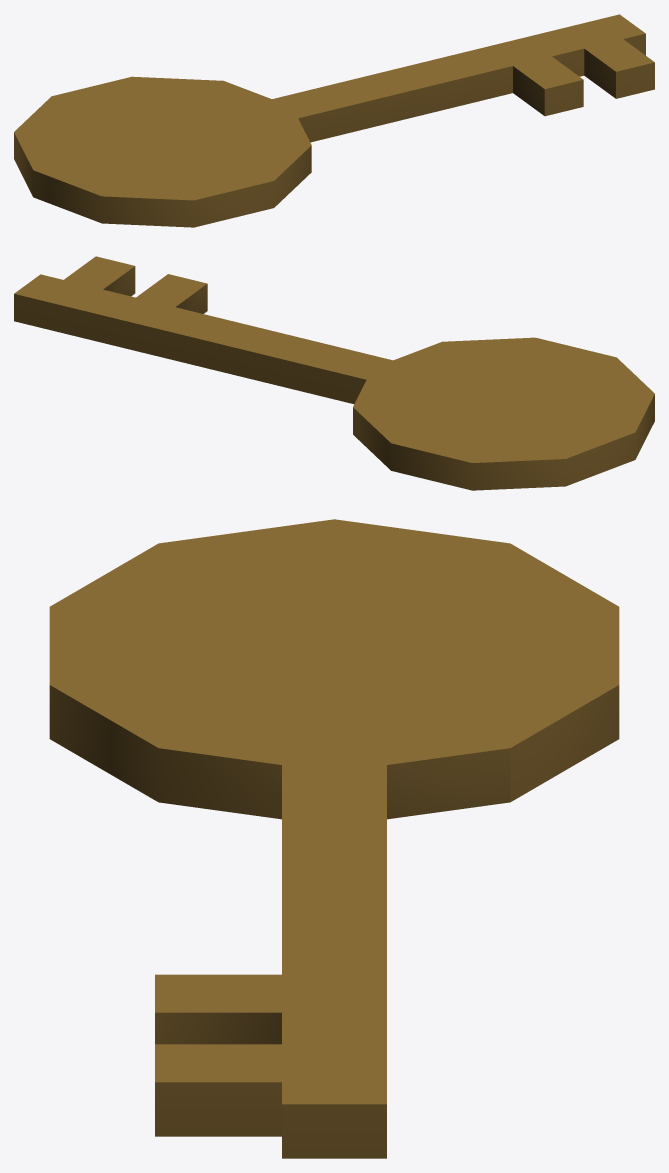
Rendered from llave_archivo.glb.
The picture shows the model from 3 angles, top to bottom: view 1: azimuth 30°, elevation 25°; view 2: azimuth 150°, elevation 25°; view 3: azimuth 270°, elevation 25°; orthographic projection. The views are drawn at different scales.
Visible parts, largest first — view 1: llave_archivo; view 2: llave_archivo; view 3: llave_archivo.
Boxes of the visible parts, x1=… form: llave_archivo: x1=14, y1=14, x2=654, y2=227; llave_archivo: x1=14, y1=256, x2=654, y2=490; llave_archivo: x1=49, y1=519, x2=619, y2=1158.
Size of the model in its own units: 0.0925 by 0.004 by 0.038.
